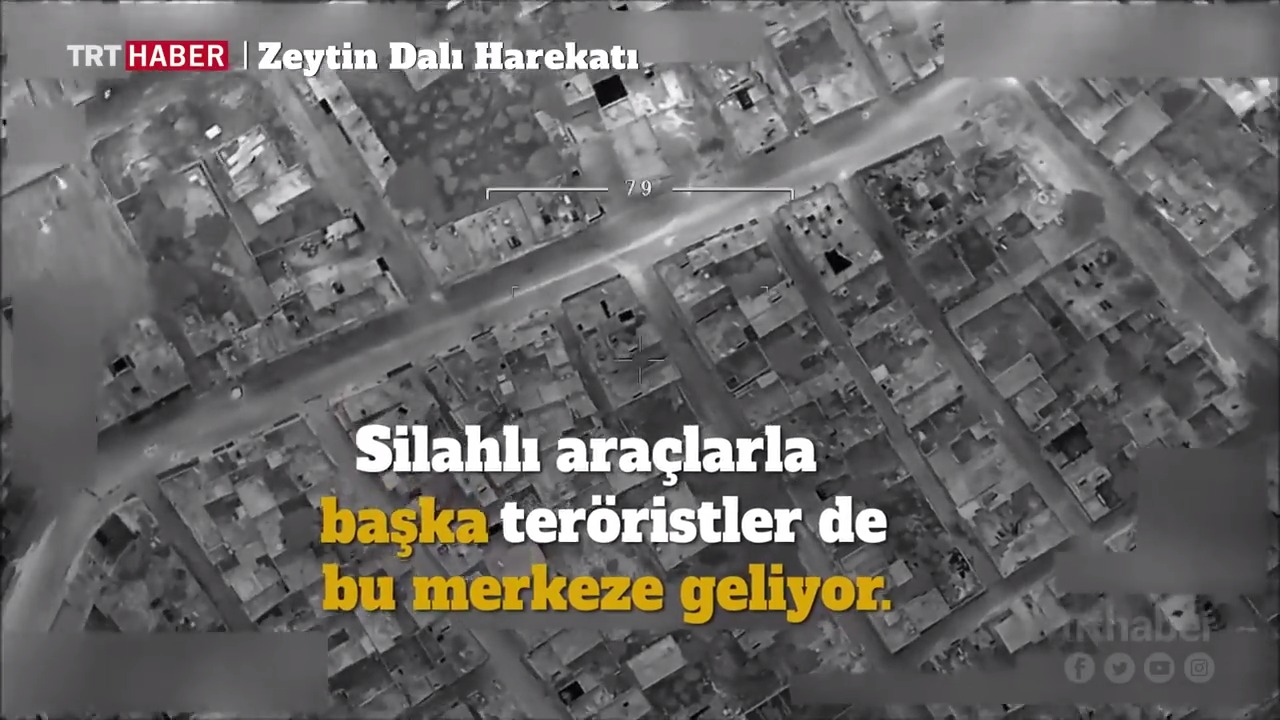bina: (557, 256, 689, 412), (774, 180, 894, 289)
